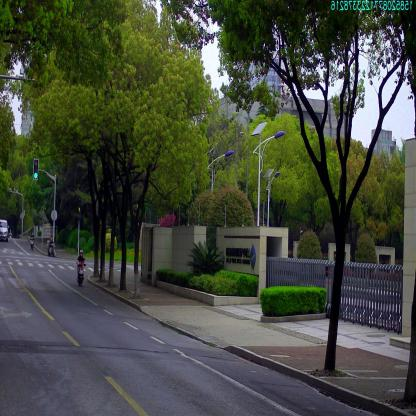traffic-light: (34, 159, 38, 179)
